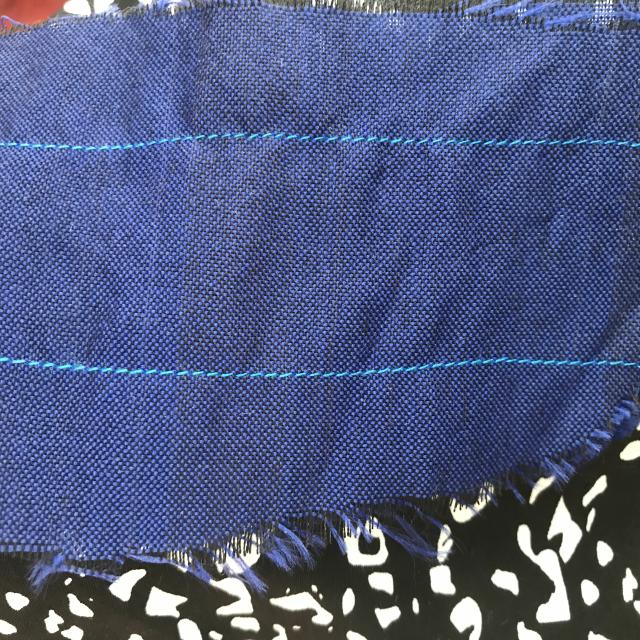good: (492, 344, 607, 384), (129, 358, 249, 388), (308, 359, 422, 384), (497, 130, 602, 155)
